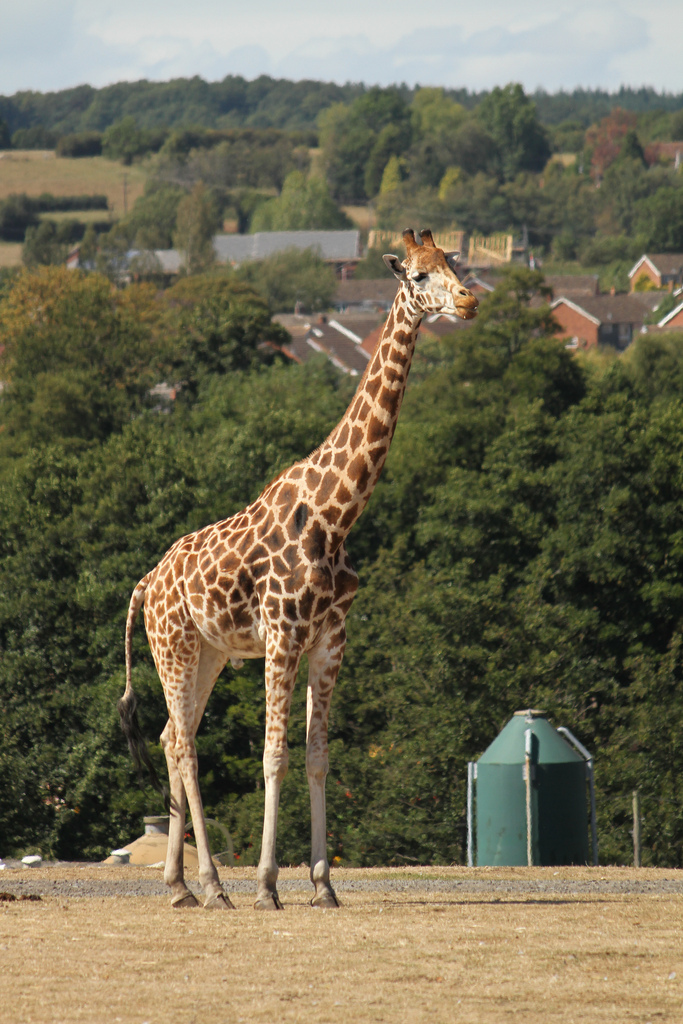giraffe: (121, 220, 493, 929)
